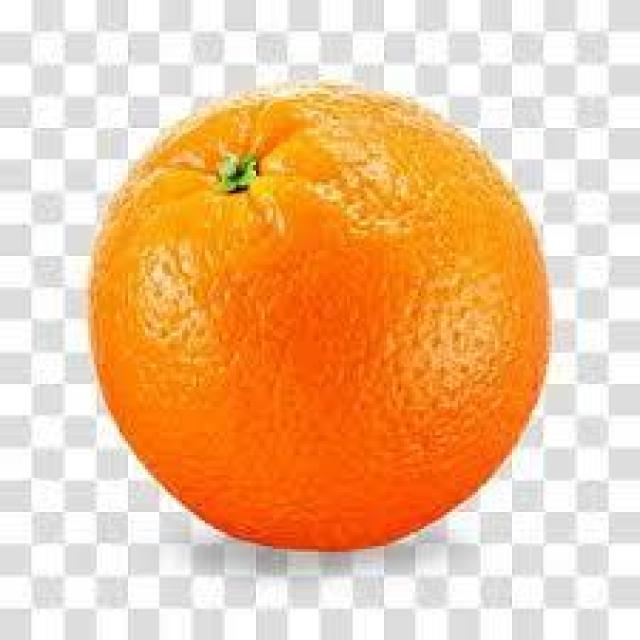Good_Orange: (85, 77, 555, 555)
